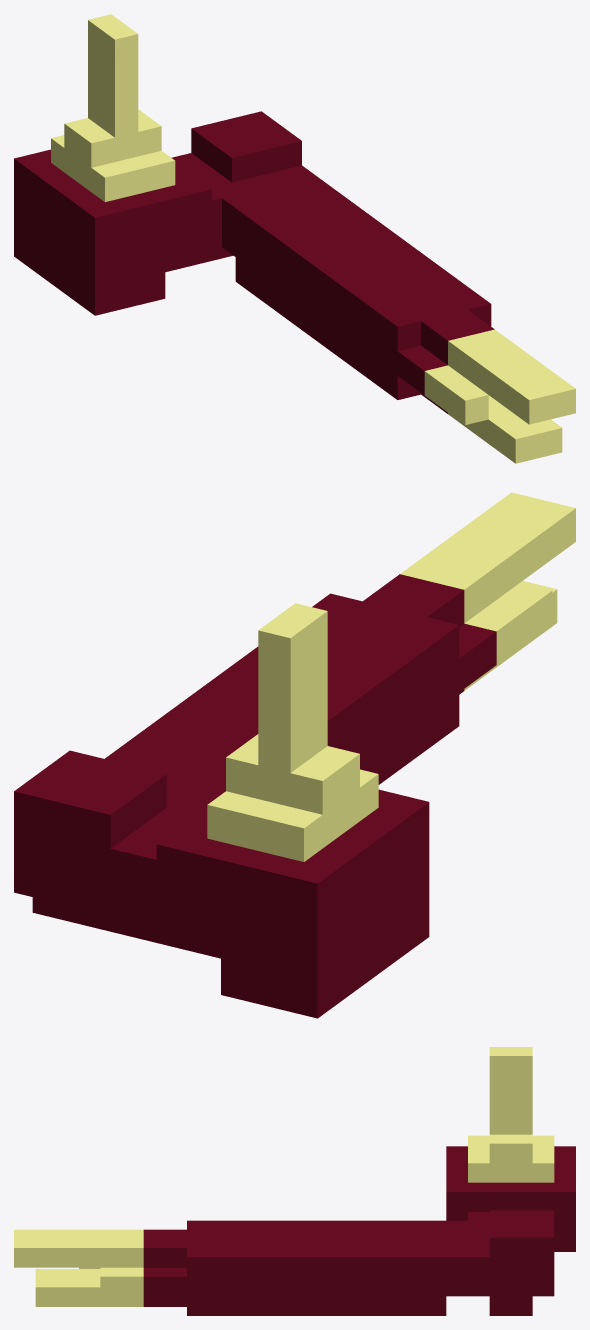
File: Demon_Left_Arm.obj
The picture shows the model from 3 angles, top to bottom: view 1: azimuth 30°, elevation 25°; view 2: azimuth 150°, elevation 25°; view 3: azimuth 270°, elevation 25°; orthographic projection. The views are drawn at different scales.
Bounding box in the file's own units: 1 × 1 × 2.6.
Materials: 1 (1 with a texture image).
